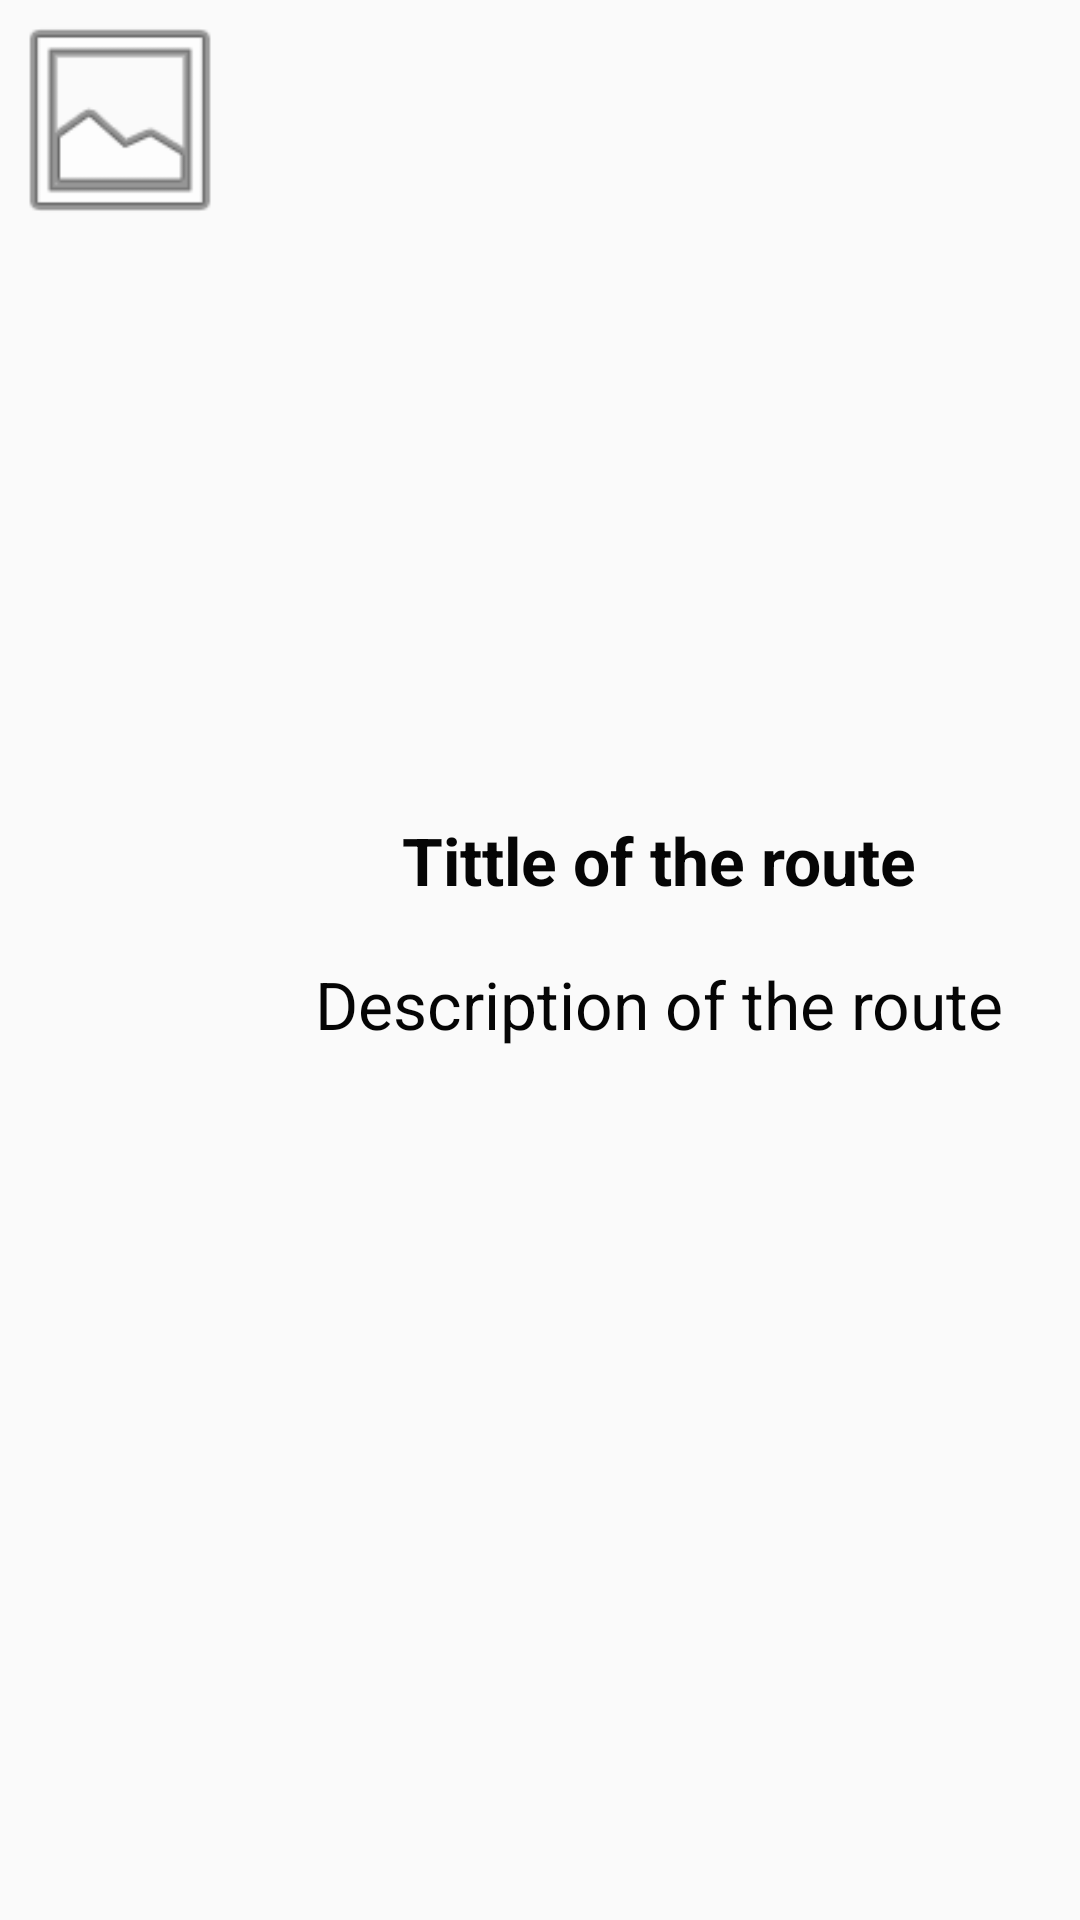

Screen size 1080 x 1920. Icon name, then its center in pixels as (x,y):
gallery: (120,120)
